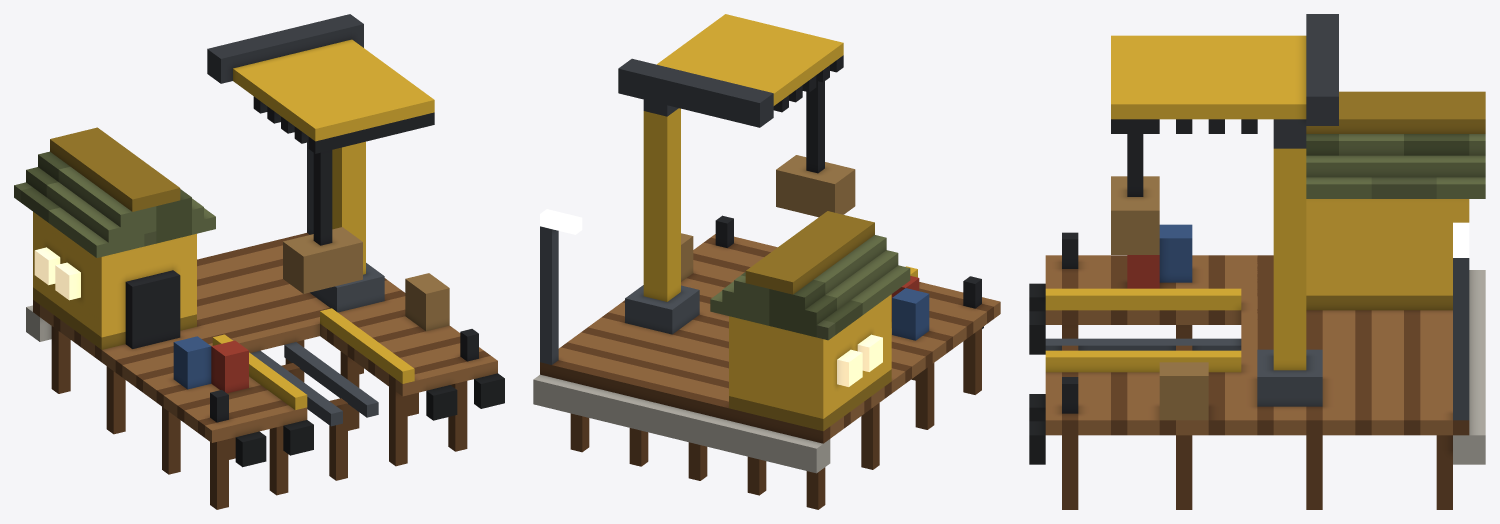
File: cm_dock_2.glb
3 renders of one model, left to right at view 1: azimuth 30°, elevation 25°; view 2: azimuth 150°, elevation 25°; view 3: azimuth 270°, elevation 25°, orthographic. The views are drawn at different scales.
Parts seen in each view (by area): view 1: cm_dock_2_body; view 2: cm_dock_2_body; view 3: cm_dock_2_body.
Part boxes in pixels (box(x1,y1,x2,y2)): cm_dock_2_body: box(14, 14, 504, 509); cm_dock_2_body: box(533, 14, 1000, 509); cm_dock_2_body: box(1029, 14, 1485, 509).
Size of the model in its own units: 1.56 by 1.75 by 1.75.
1 material, 1 textured.
